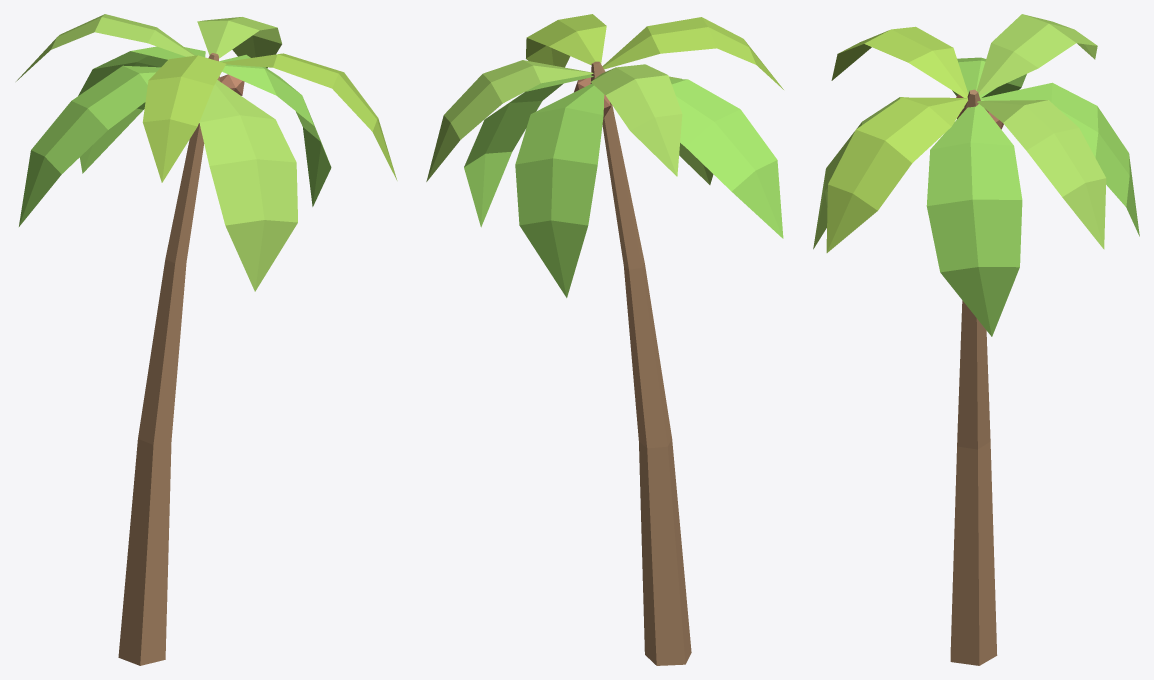
The model's file is Prop_Tree_Palm_2.glb.
The picture shows the model from 3 angles, left to right: view 1: azimuth 30°, elevation 25°; view 2: azimuth 150°, elevation 25°; view 3: azimuth 270°, elevation 25°; orthographic projection. The views are drawn at different scales.
Parts seen in each view (by area): view 1: Palm_Tree_Coconut_m_02; view 2: Palm_Tree_Coconut_m_02; view 3: Palm_Tree_Coconut_m_02.
Boxes of the visible parts, x1=… form: Palm_Tree_Coconut_m_02: x1=16, y1=14, x2=397, y2=665; Palm_Tree_Coconut_m_02: x1=426, y1=14, x2=783, y2=665; Palm_Tree_Coconut_m_02: x1=813, y1=14, x2=1139, y2=665.
Size of the model in its own units: 2.18 by 4.12 by 1.94.
1 material, 1 textured.
